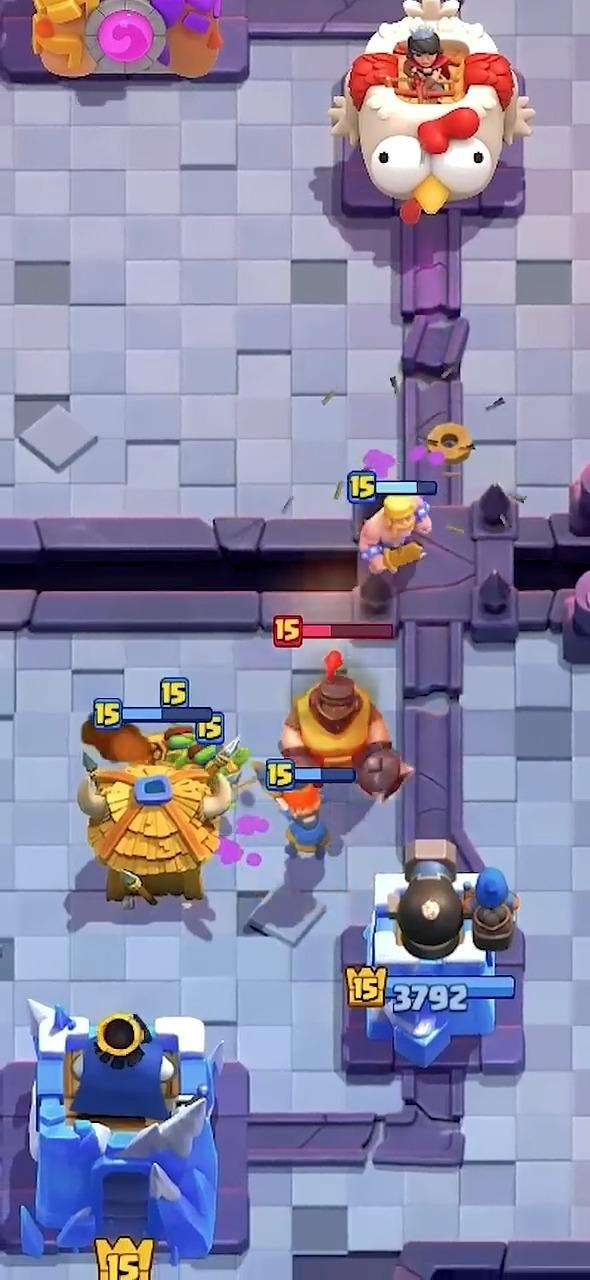barbarian: (360, 495, 431, 574)
goblin hut: (78, 752, 231, 901)
mega knight: (279, 650, 407, 797)
valkyrie: (275, 784, 328, 858)
